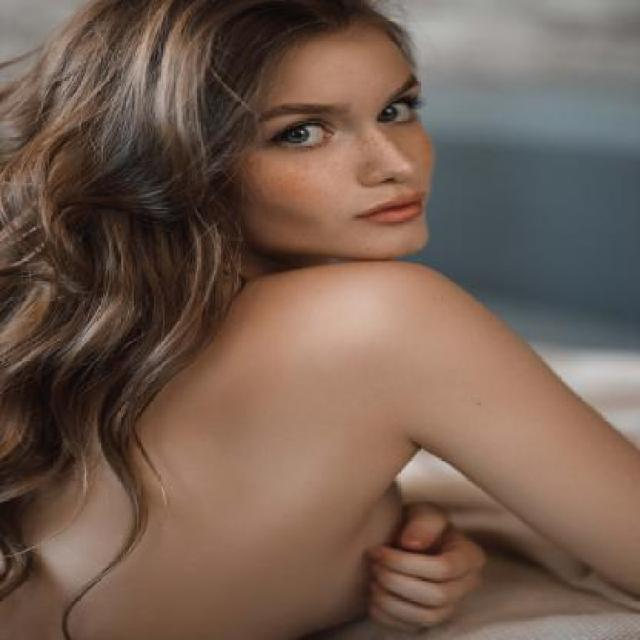closed-mouth: (353, 188, 442, 227)
